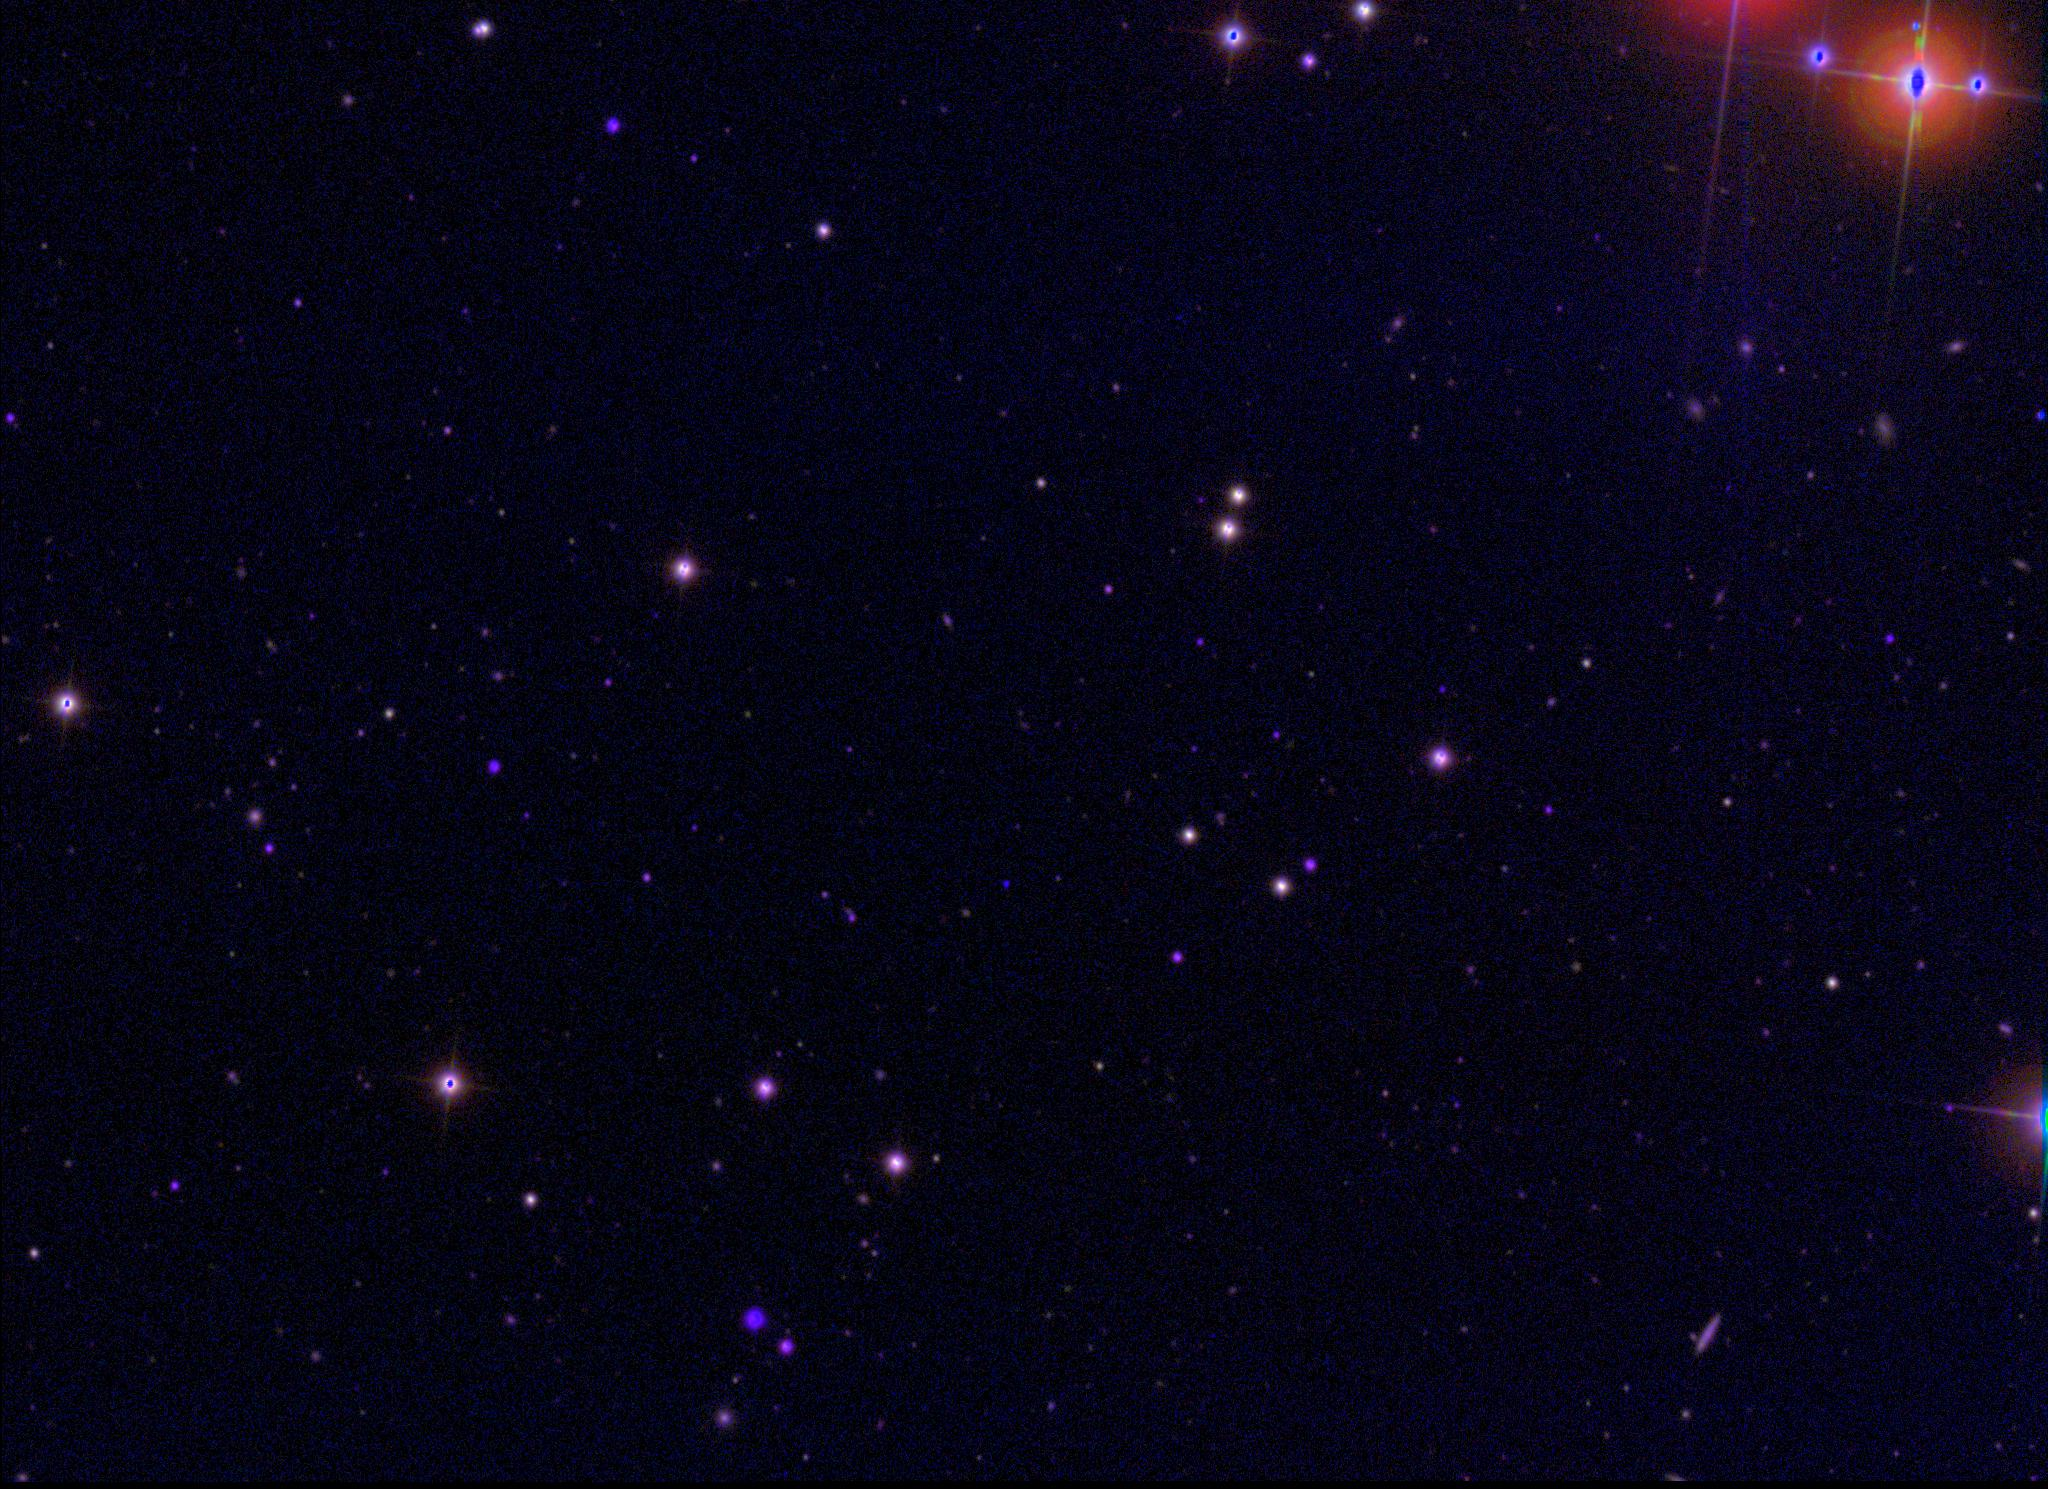L: (999, 880, 1011, 892)
